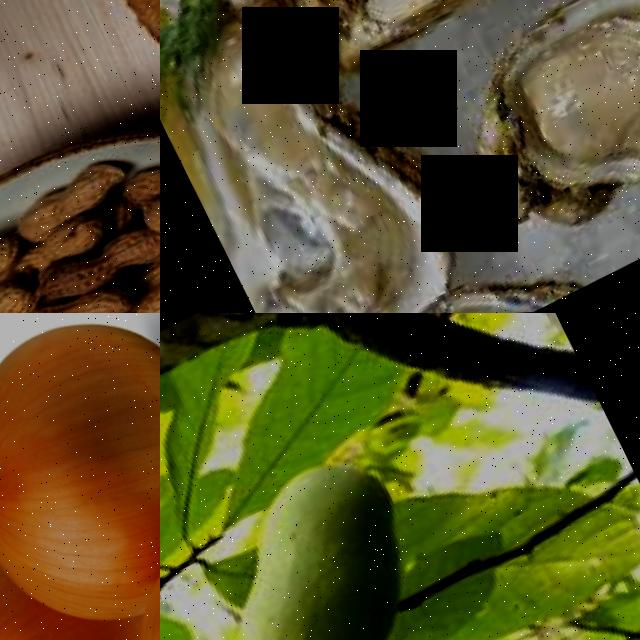mango: (172, 446, 448, 640)
onion: (0, 313, 160, 617), (101, 458, 160, 640)
oysters: (160, 0, 460, 313), (431, 0, 640, 310), (221, 0, 640, 75)
peanuts: (3, 155, 133, 248), (30, 227, 153, 313), (9, 277, 132, 313), (132, 165, 160, 269), (115, 271, 160, 313), (0, 272, 45, 313), (0, 229, 26, 299)
